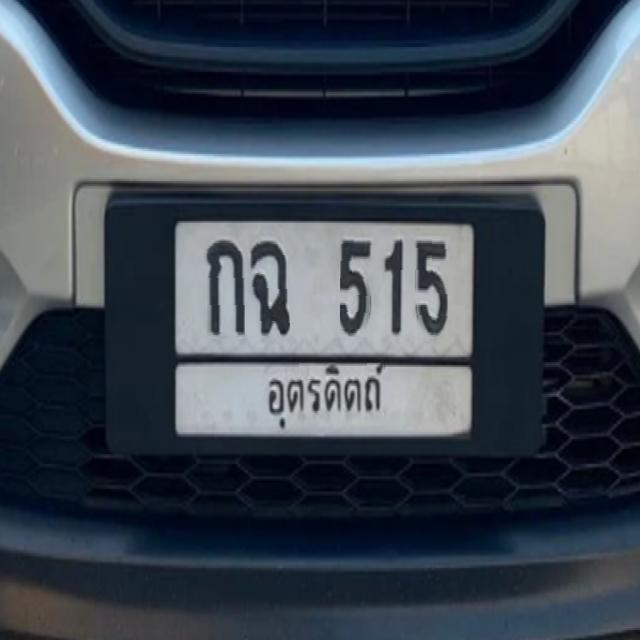1: (384, 234, 405, 338)
5: (412, 237, 454, 337), (333, 237, 371, 336)
A01: (203, 236, 248, 338)
A09: (250, 237, 295, 338)
UTT: (259, 365, 406, 432)
